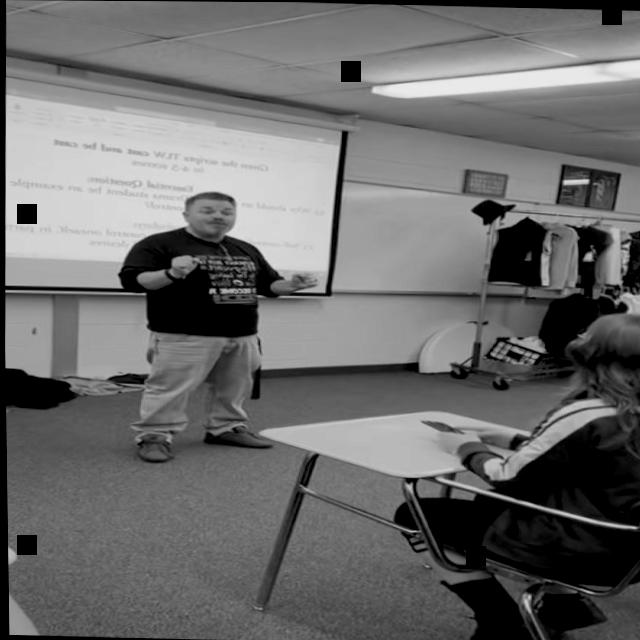NO-Mask: (187, 201, 232, 239)
